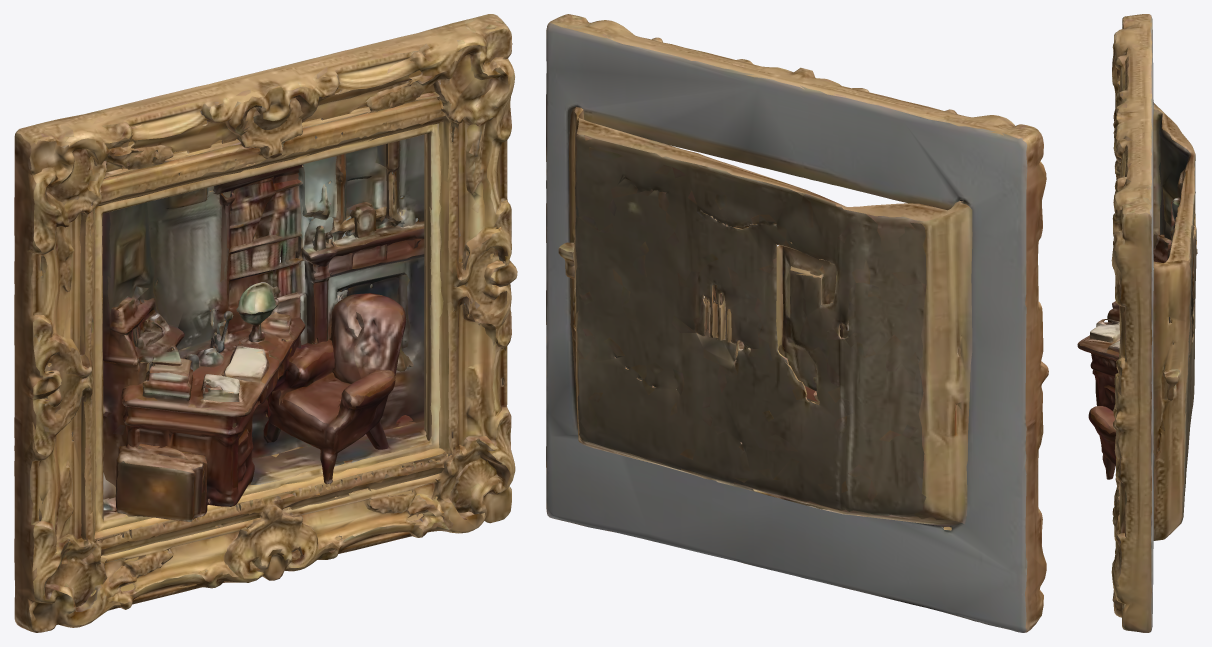
Rendered from obj_study_painting.glb.
3 views of the same model, side by side, from view 1: azimuth 30°, elevation 25°; view 2: azimuth 150°, elevation 25°; view 3: azimuth 270°, elevation 25° (orthographic). The views are drawn at different scales.
Visible parts, largest first — view 1: geometry_0; view 2: geometry_0; view 3: geometry_0.
Boxes of the visible parts, box(x1,y1,x2,y2) form: geometry_0: box(14, 14, 517, 632); geometry_0: box(546, 14, 1048, 632); geometry_0: box(1077, 14, 1197, 632).
Size of the model in its own units: 0.6 by 0.5865 by 0.151.
Materials: 1 (1 with a texture image).
